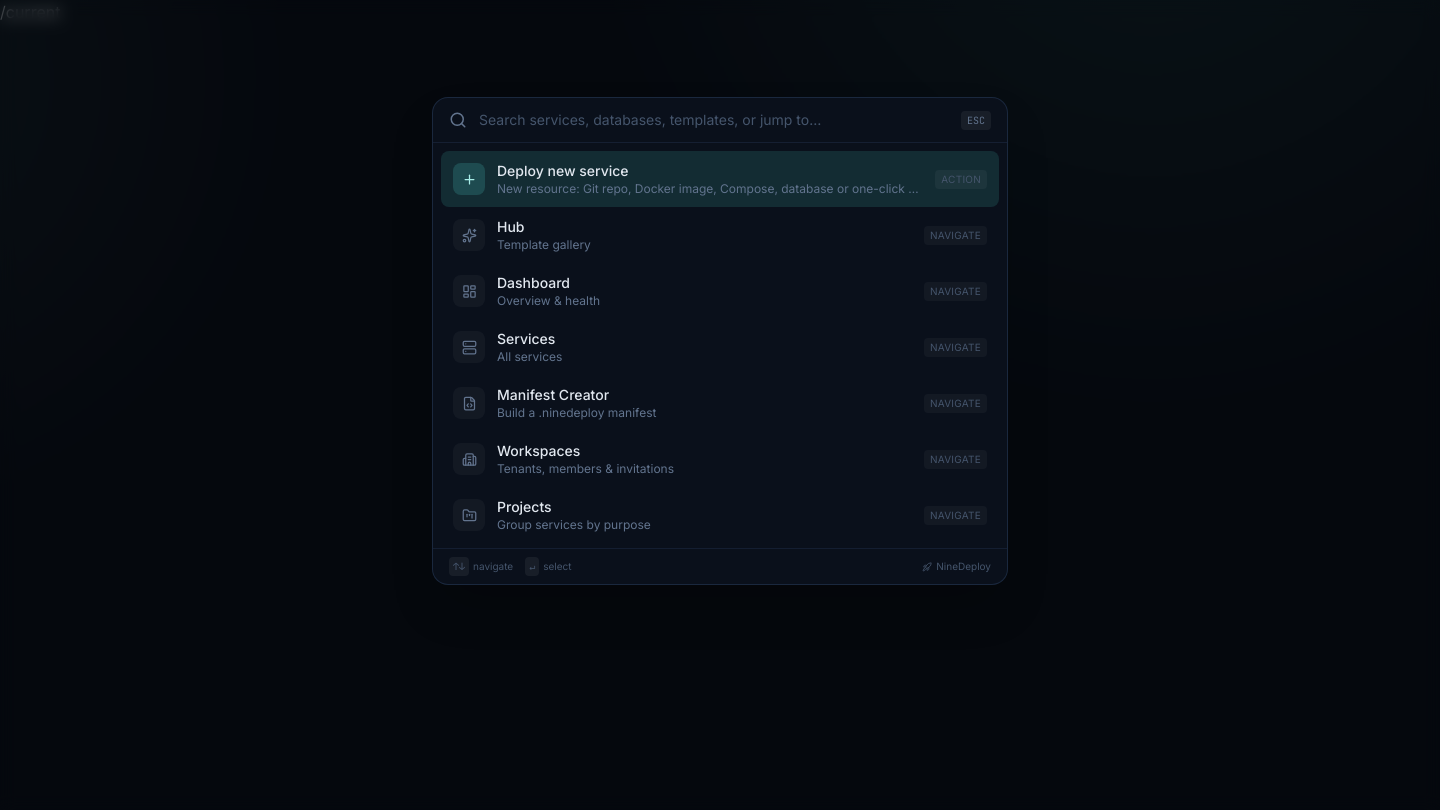
Scenario: CommandPalette › filters commands by label
Check: the text "Hub" is shown, box x1=497 y1=218 x2=524 y2=235
Step 1. Type "Volumes" into the dropdown with placeholder "Search services, databases, templates, or jump to…" → [714, 120], box x1=479 y1=110 x2=949 y2=130
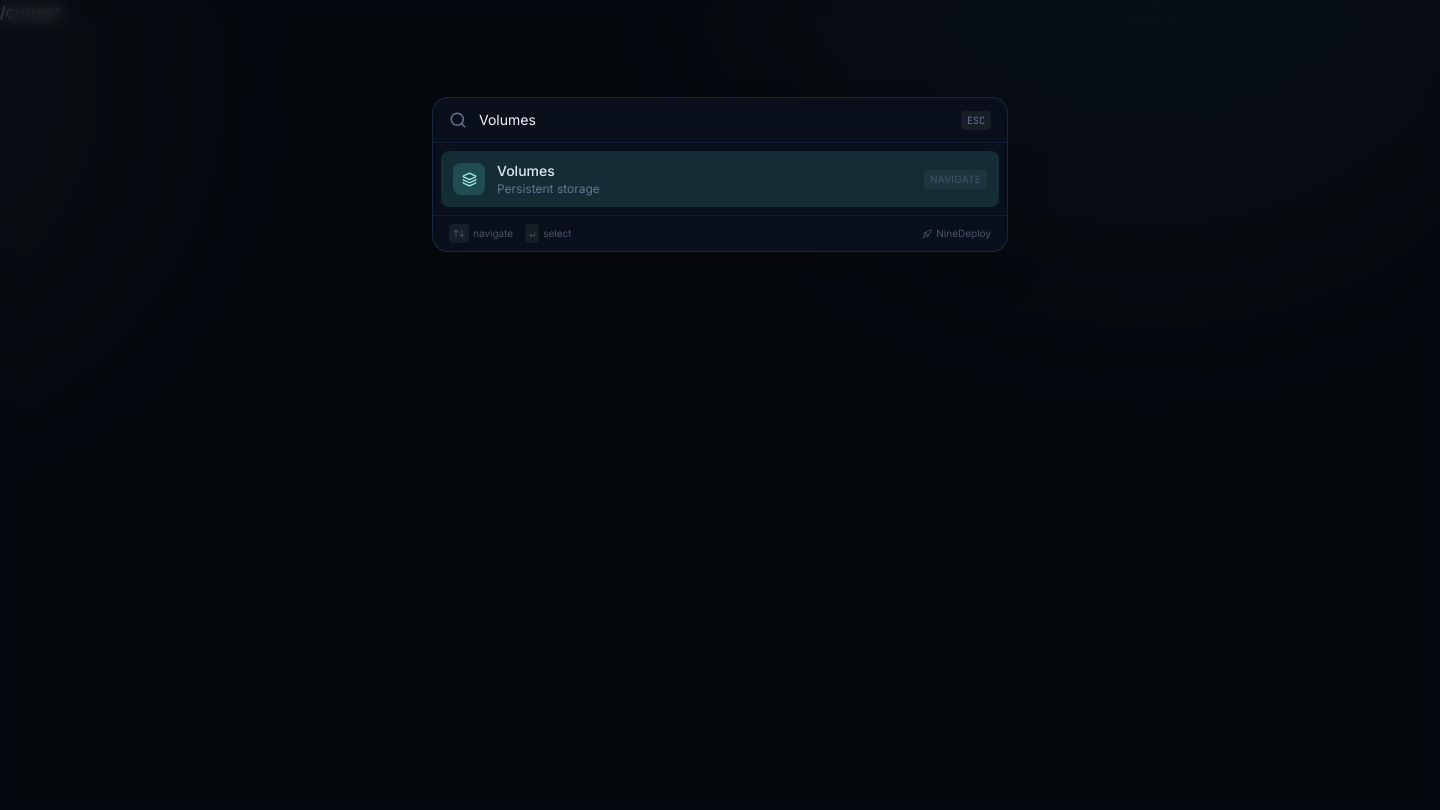
Check: the text "Volumes" is shown, box x1=497 y1=162 x2=555 y2=179
Check: the option "Hub" is gone
